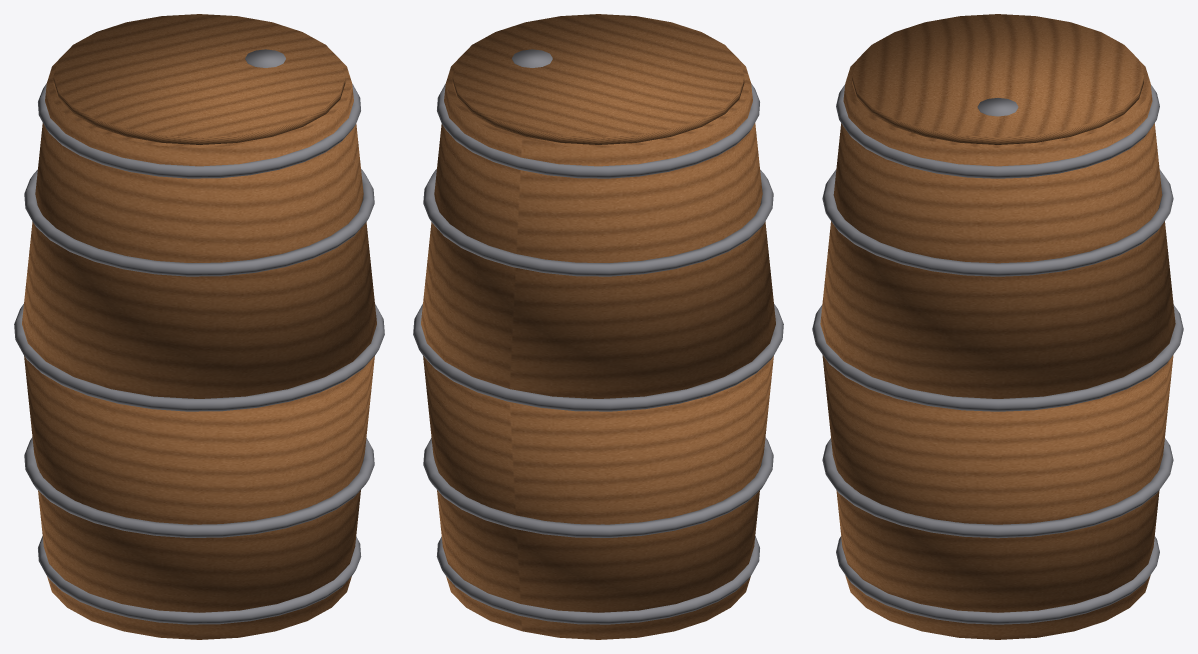
The model's file is Barrel.glb.
3 views of the same model, side by side, from view 1: azimuth 30°, elevation 25°; view 2: azimuth 150°, elevation 25°; view 3: azimuth 270°, elevation 25° (orthographic).
Visible parts, largest first — view 1: Barrel; view 2: Barrel; view 3: Barrel.
Boxes of the visible parts, <box> form: Barrel: <box>14,14,384,639</box>; Barrel: <box>413,14,783,639</box>; Barrel: <box>812,14,1183,639</box>.
Bounding box in the file's own units: 2.19 × 3.26 × 2.19.
2 materials, 1 textured.
